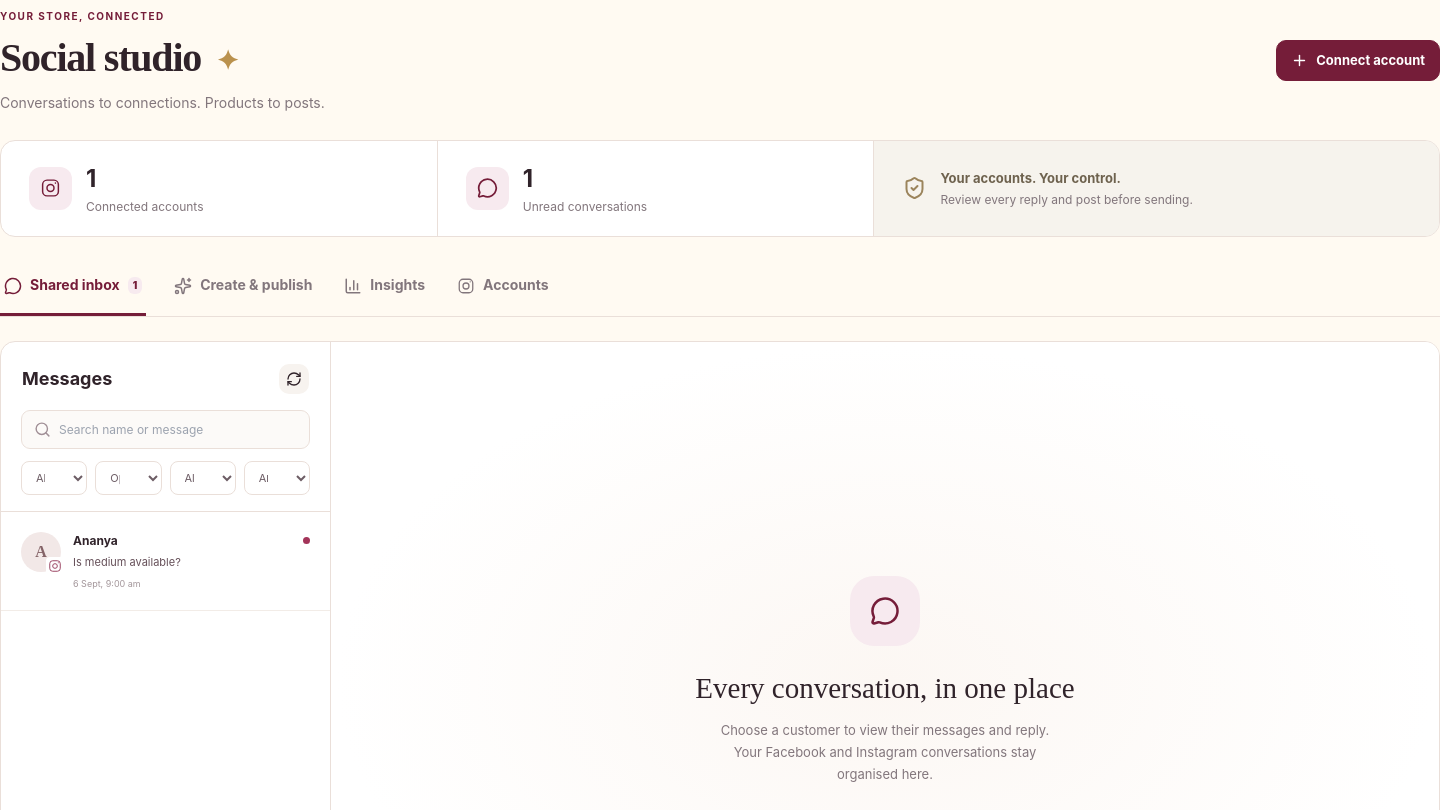
Scenario: expired reply window disables sending and provides the Meta inbox link
Click the button "A Ananya Is medium available? 6 Sept, 9:00 am" at [166, 562], box [1,512,330,611]
(page scrolled)
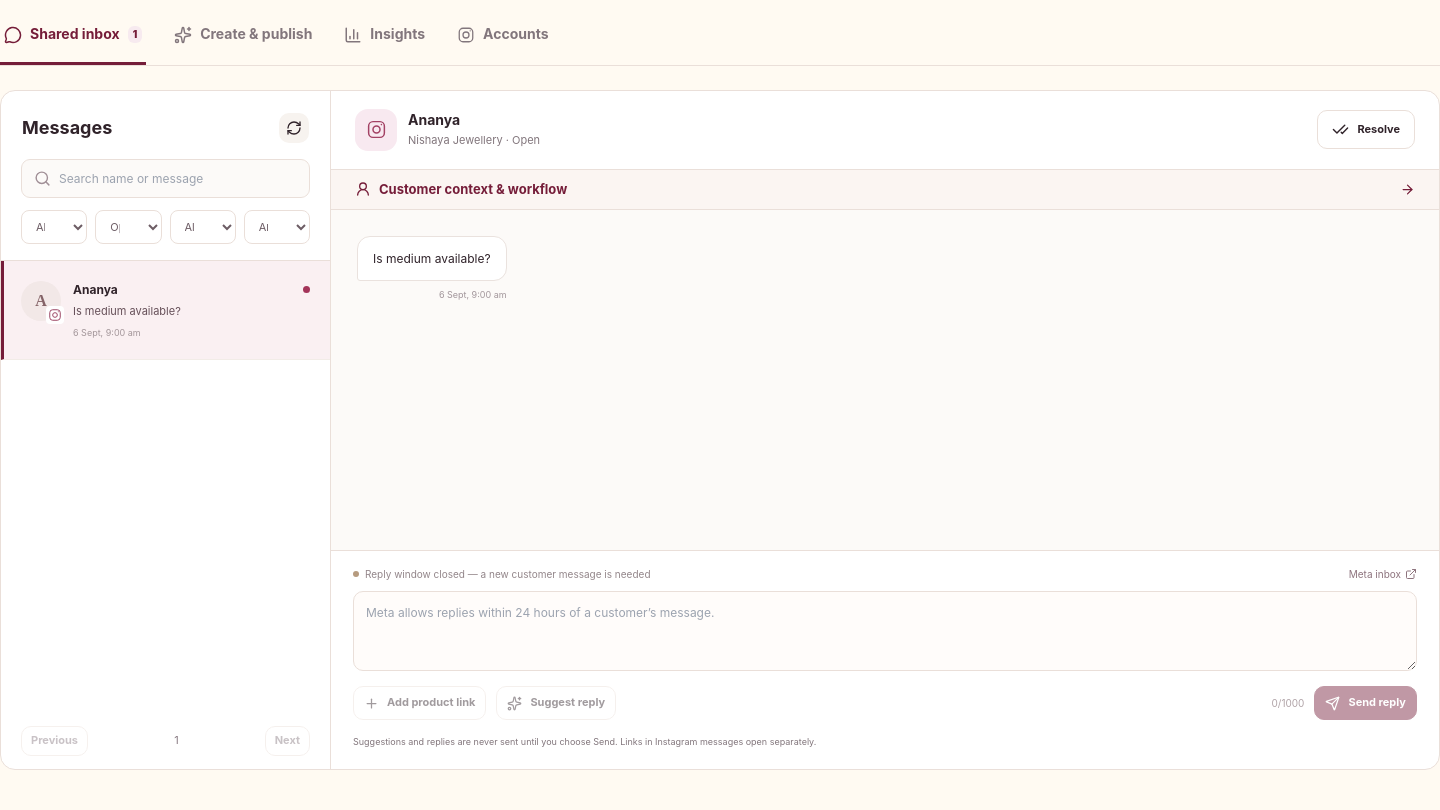
Check: the text box named "Write your reply" is disabled, box [353,591,1417,671]
Check: the button "Send reply" is disabled, box [1314,686,1417,720]
